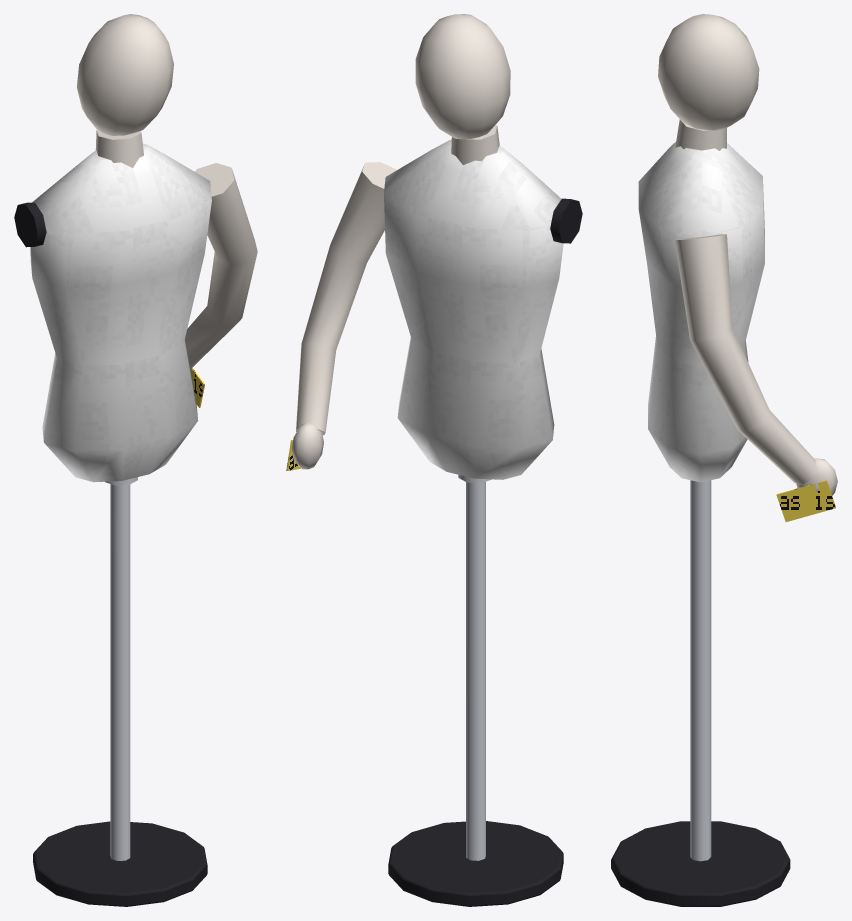
The model's file is s_mannequin.glb.
3 renders of one model, left to right at view 1: azimuth 30°, elevation 25°; view 2: azimuth 150°, elevation 25°; view 3: azimuth 270°, elevation 25°, orthographic.
Parts seen in each view (by area): view 1: s_mannequin_mesh; view 2: s_mannequin_mesh; view 3: s_mannequin_mesh.
Part boxes in pixels (box(x1,y1,x2,y2)): s_mannequin_mesh: box(14, 14, 257, 906); s_mannequin_mesh: box(286, 14, 582, 906); s_mannequin_mesh: box(611, 14, 837, 906).
Size of what is drawn, in the model's own units: 0.5356 by 1.8 by 0.43.
5 materials, 5 textured.
